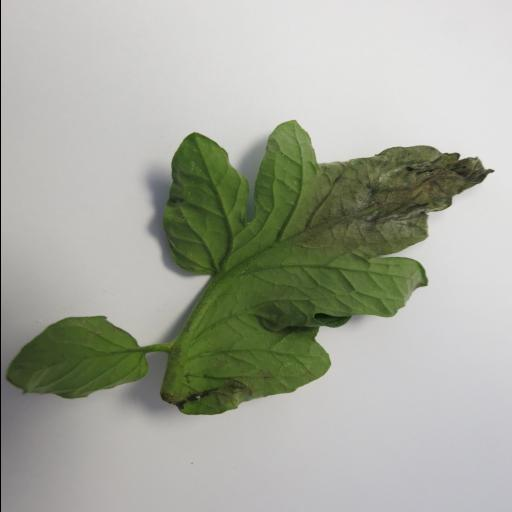Late Blight: (159, 114, 500, 434)
